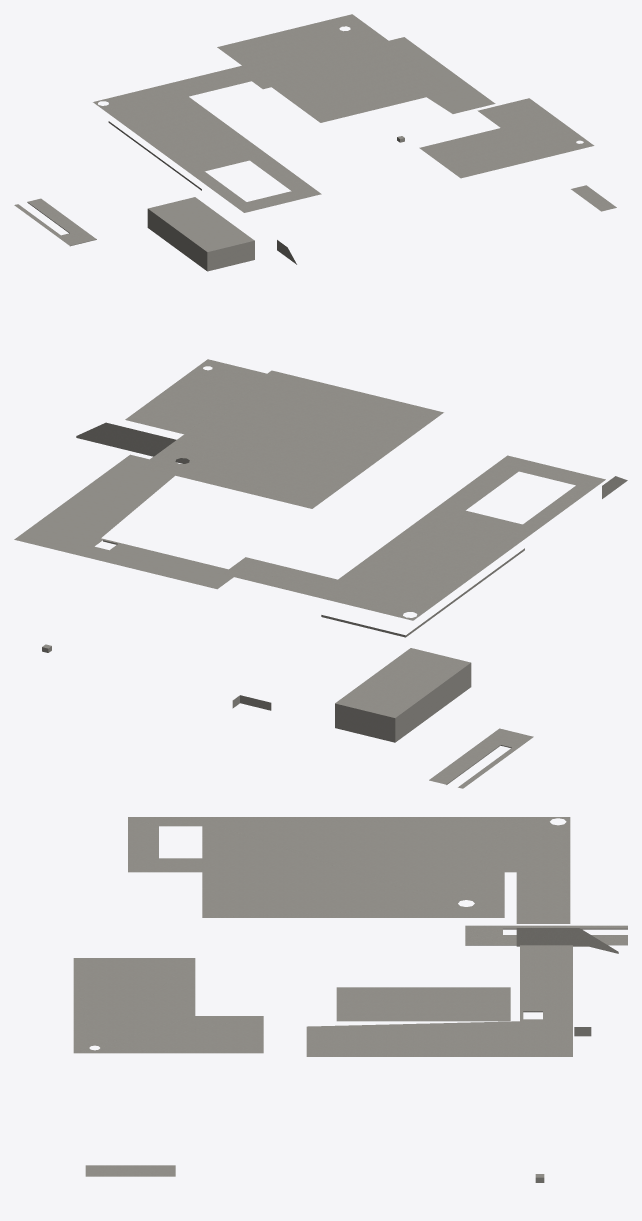
File: kd_stage_135ded_4_20_bounded.glb
The picture shows the model from 3 angles, top to bottom: view 1: azimuth 30°, elevation 25°; view 2: azimuth 150°, elevation 25°; view 3: azimuth 270°, elevation 25°; orthographic projection. The views are drawn at different scales.
Visible parts, largest first — view 1: kd_stage_135ded_4_20_bounded; view 2: kd_stage_135ded_4_20_bounded; view 3: kd_stage_135ded_4_20_bounded.
Part boxes in pixels (x1,y1,x2,y2): kd_stage_135ded_4_20_bounded: (14, 14, 616, 271); kd_stage_135ded_4_20_bounded: (14, 359, 627, 788); kd_stage_135ded_4_20_bounded: (73, 817, 627, 1182).
Size of the model in its own units: 12.48 by 4.68 by 10.76.
1 material, 1 textured.
